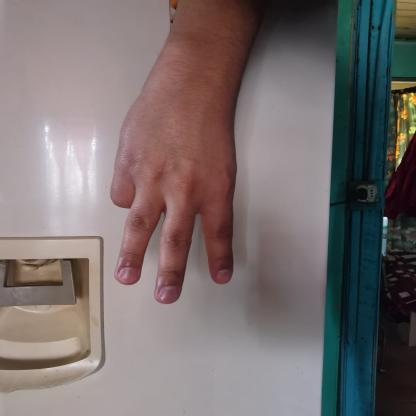M: (105, 0, 287, 320)
